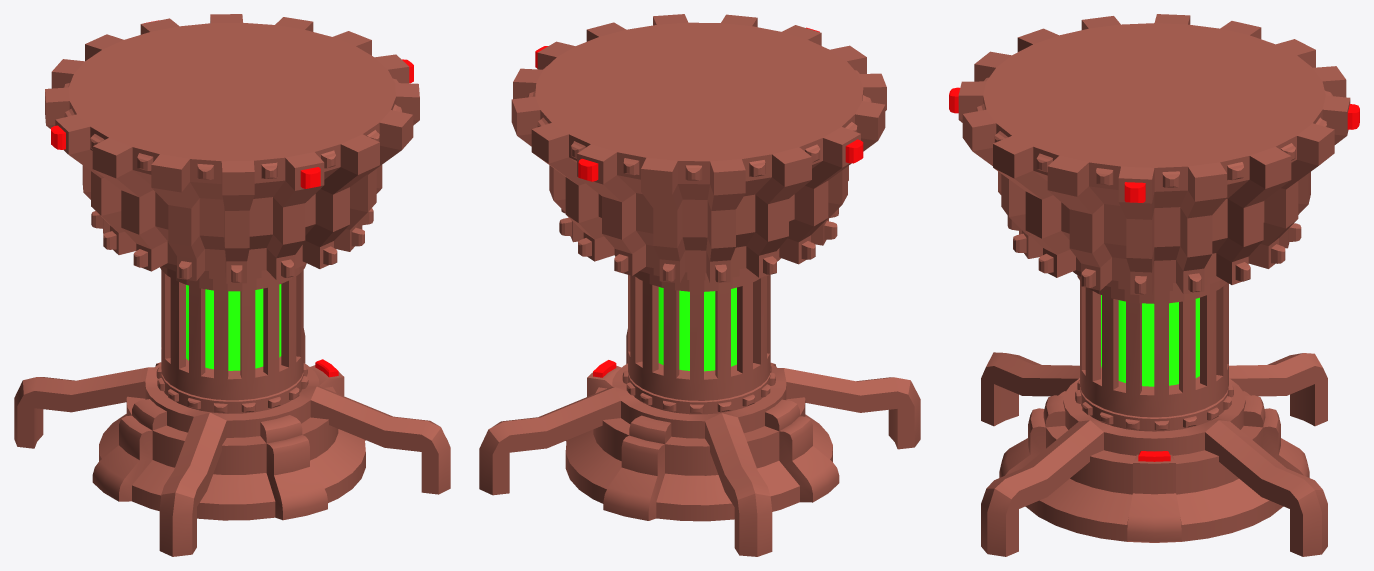
The model's file is Nuclear Control Room Reactor.fbx.
The picture shows the model from 3 angles, left to right: view 1: azimuth 30°, elevation 25°; view 2: azimuth 150°, elevation 25°; view 3: azimuth 270°, elevation 25°; orthographic projection. The views are drawn at different scales.
Visible parts, largest first — view 1: Reactor; view 2: Reactor; view 3: Reactor.
Part boxes in pixels (x1=…): Reactor: x1=14, y1=14, x2=450, y2=556; Reactor: x1=479, y1=14, x2=920, y2=556; Reactor: x1=949, y1=14, x2=1359, y2=556.
Size of the model in its own units: 1.96 by 2.04 by 1.96.
